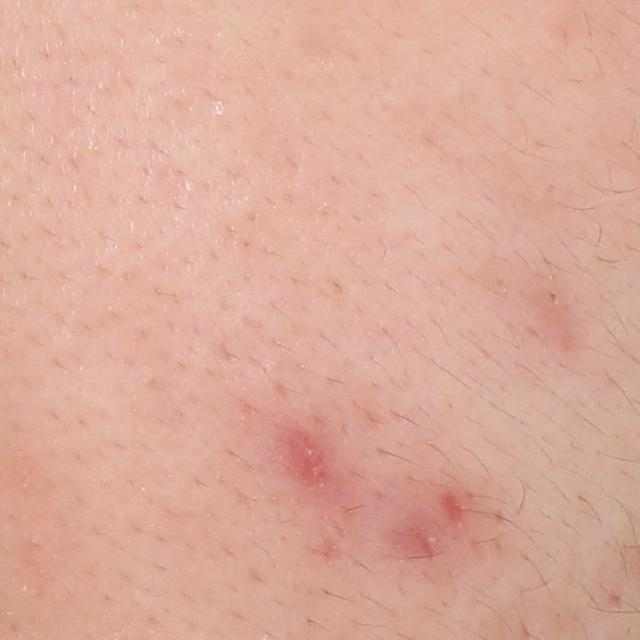atrophic_scar: (440, 491, 463, 524)
comedo: (545, 288, 562, 309)
